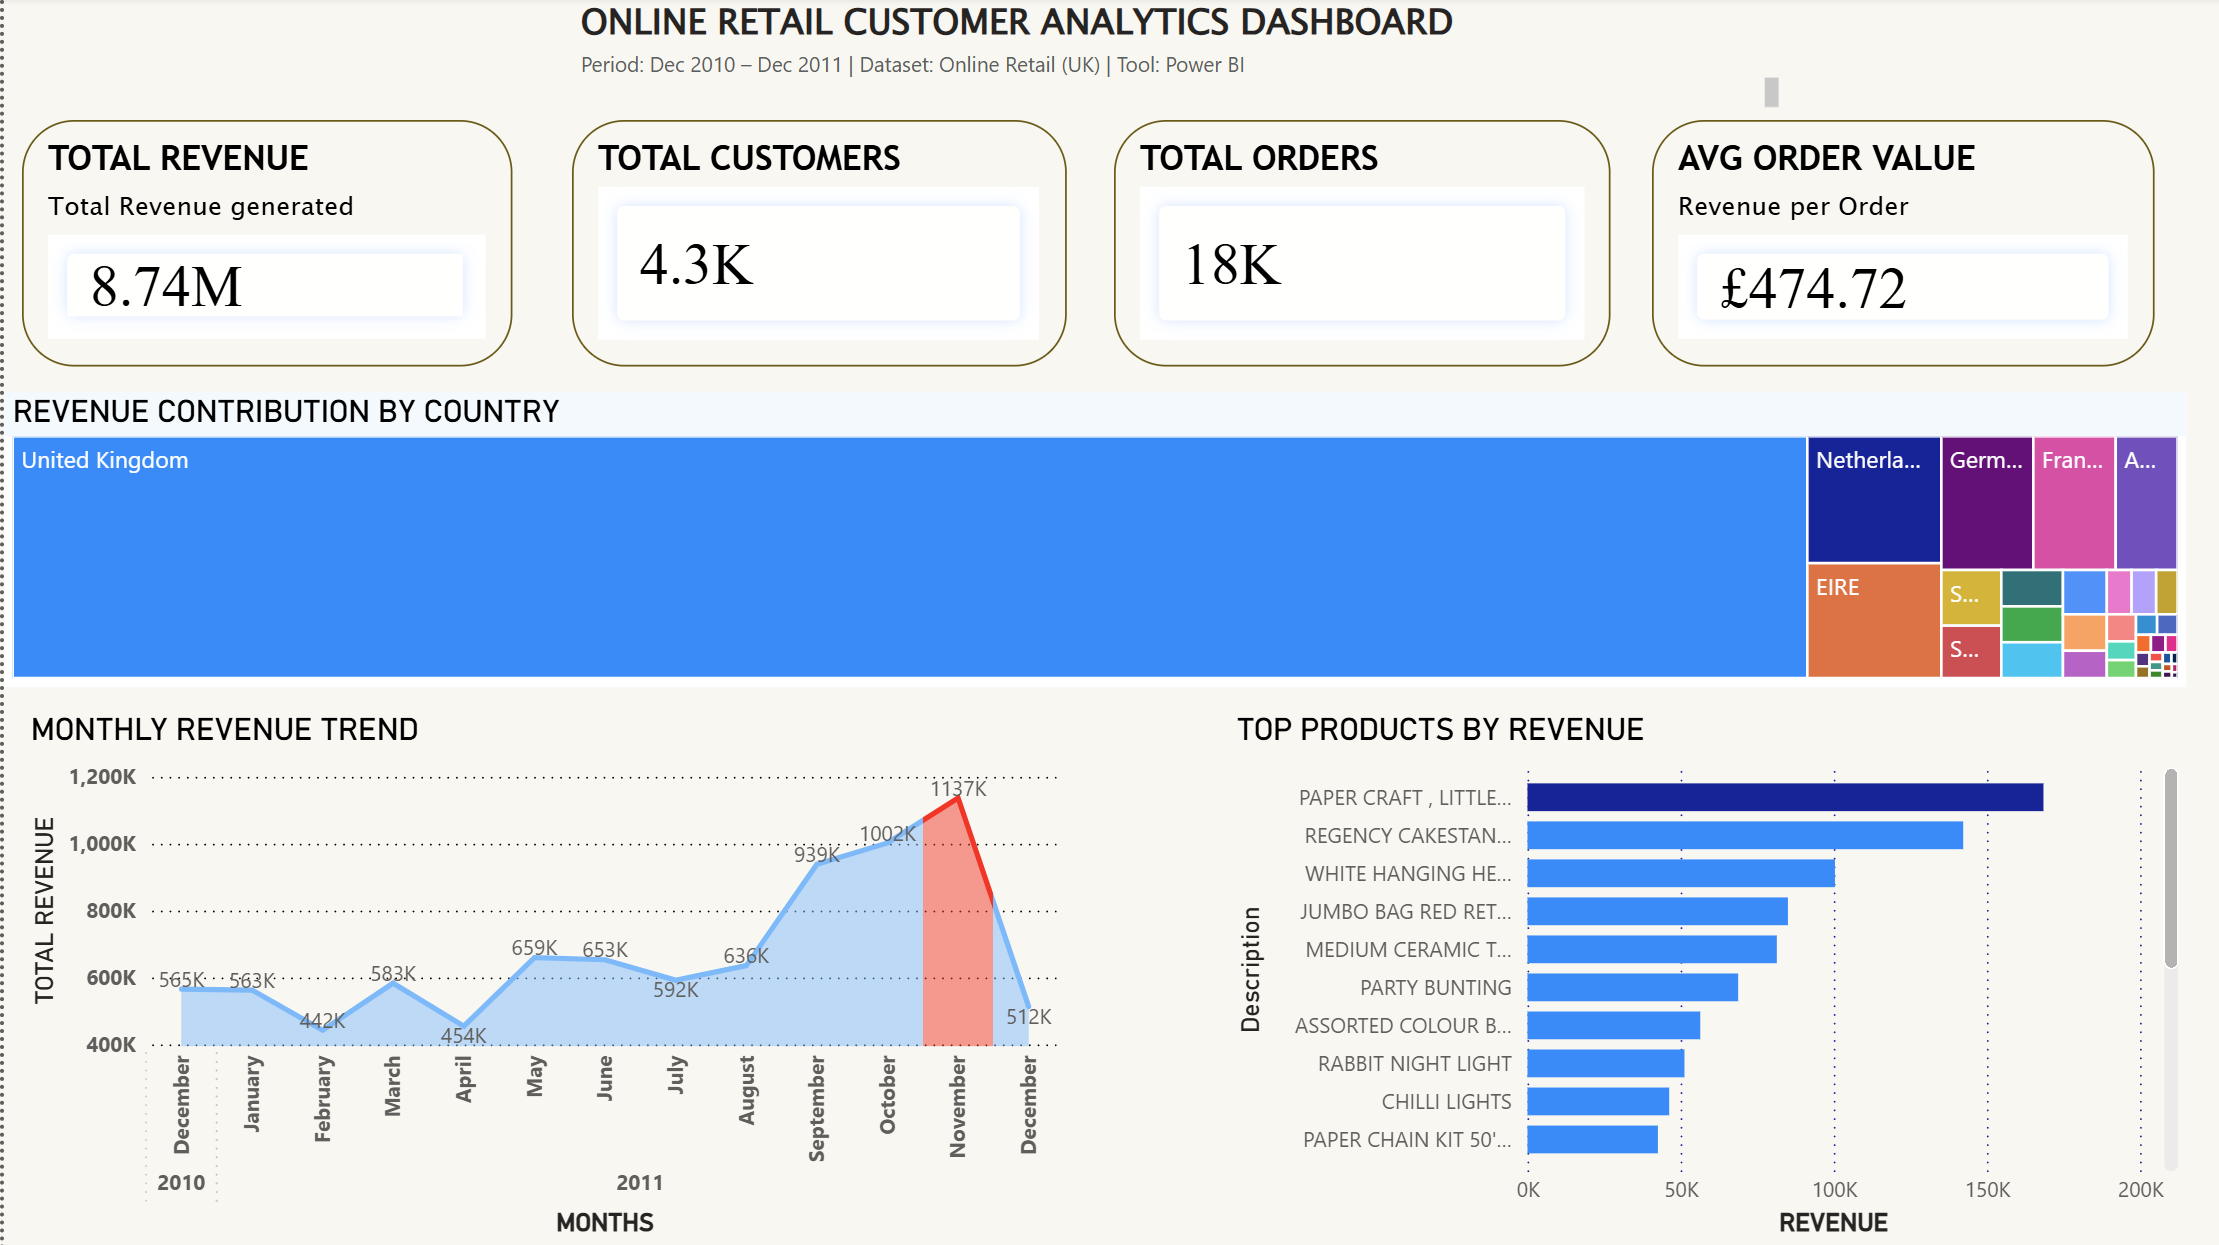

Layout of this report page (visuals, bound fields, positions):
{"tool":"powerbi","page":{"name":"Revenue OverView","canvas":[1280,720],"ordinal":0},"visuals":[{"type":"areaChart","title":"MONTHLY REVENUE TREND","fields":{"Category":["feature_data.month.Variation.Date Hierarchy.Year","feature_data.month.Variation.Date Hierarchy.Month"],"Y":["Sum(feature_data.total_price)"]},"box":[10.5,411.6,601.2,308.1],"z":0},{"type":"treemap","title":"REVENUE CONTRIBUTION BY COUNTRY","fields":{"Group":["feature_data.Country"],"Values":["Sum(feature_data.total_price)"]},"box":[0,227.9,1257,169.8],"z":1000},{"type":"cardVisual","title":"TOTAL REVENUE","fields":{"Data":["Sum(feature_data.total_price)"]},"box":[10.5,70.9,282.6,141.9],"z":2000},{"type":"clusteredBarChart","title":"TOP PRODUCTS BY REVENUE","fields":{"Category":["feature_data.Description"],"Y":["Sum(feature_data.total_price)"]},"box":[704.7,411.6,552.3,308.1],"z":3000},{"type":"cardVisual","title":"TOTAL ORDERS","fields":{"Data":["clv_data.Total Orders"]},"box":[639.5,70.9,286,141.9],"z":4000},{"type":"cardVisual","title":"TOTAL CUSTOMERS","fields":{"Data":["Count(feature_data.CustomerID)"]},"box":[326.7,70.9,284.9,141.9],"z":5000},{"type":"cardVisual","title":"AVG ORDER VALUE","fields":{"Data":["feature_data.Average Order Value"]},"box":[948.8,70.9,289.5,141.9],"z":6000},{"type":"textbox","title":"ONLINE RETAIL CUSTOMER ANALYTICS DASHBOARD","box":[326.7,0,700,70.9],"z":7000}]}

Visuals, with their boxes in screenshot pixels (x1, y1, x2, y2), scaled from the page's 1280x720 canvas onto the 2219x1245 screenshot:
"MONTHLY REVENUE TREND" areaChart: detection(18, 712, 1060, 1244)
"REVENUE CONTRIBUTION BY COUNTRY" treemap: detection(0, 394, 2179, 688)
"TOTAL REVENUE" cardVisual: detection(18, 123, 508, 368)
"TOP PRODUCTS BY REVENUE" clusteredBarChart: detection(1222, 712, 2179, 1244)
"TOTAL ORDERS" cardVisual: detection(1109, 123, 1604, 368)
"TOTAL CUSTOMERS" cardVisual: detection(566, 123, 1060, 368)
"AVG ORDER VALUE" cardVisual: detection(1645, 123, 2147, 368)
"ONLINE RETAIL CUSTOMER ANALYTICS DASHBOARD" textbox: detection(566, 0, 1780, 123)
